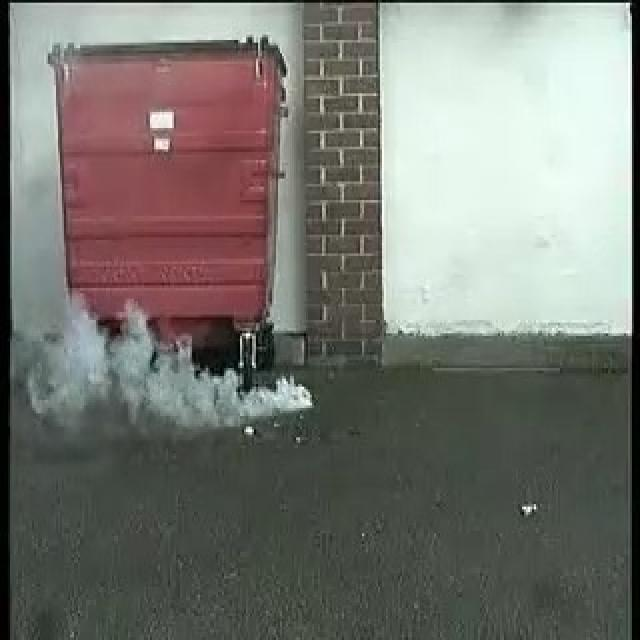smoke: (38, 317, 312, 428)
